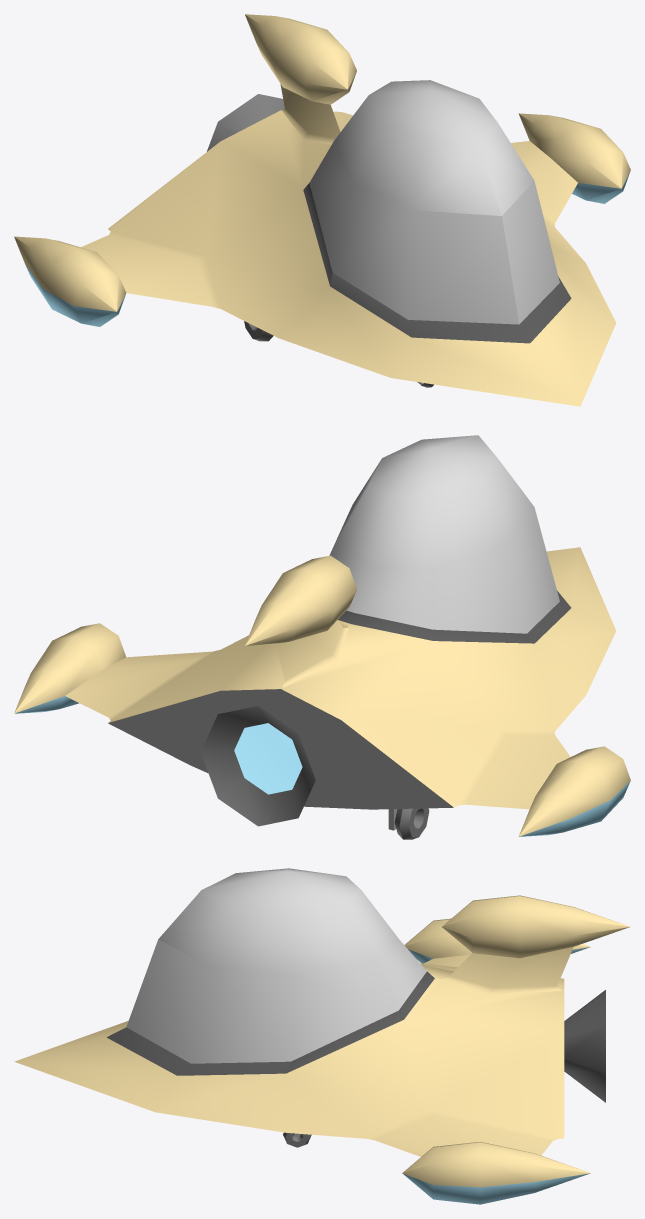
File: scoutship.gltf
3 views of the same model, one above another, from view 1: azimuth 30°, elevation 25°; view 2: azimuth 150°, elevation 25°; view 3: azimuth 270°, elevation 25° (orthographic). The views are drawn at different scales.
Visible parts, largest first — view 1: Hull, Cockpit; view 2: Hull, Cockpit, Landing Gear; view 3: Hull, Cockpit.
Boxes of the visible parts, box(x1,y1,x2,y2) form: Hull: box(14, 14, 630, 406); Cockpit: box(309, 80, 559, 324); Hull: box(14, 547, 630, 836); Cockpit: box(329, 435, 559, 633); Landing Gear: box(388, 808, 429, 839); Hull: box(14, 895, 630, 1204); Cockpit: box(126, 868, 426, 1063).
Size of the model in its own units: 0.9581 by 0.4877 by 0.9816.
